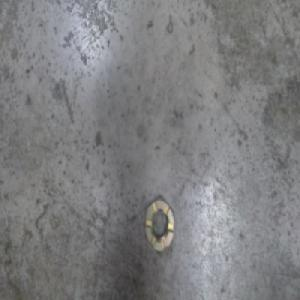Nut: (143, 193, 174, 254)
